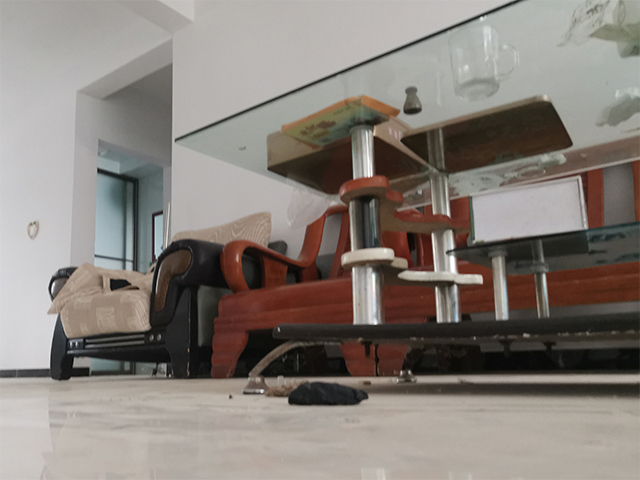feces: (264, 378, 370, 408)
sofa: (42, 208, 275, 380), (214, 205, 347, 372)
table: (173, 1, 640, 397)
